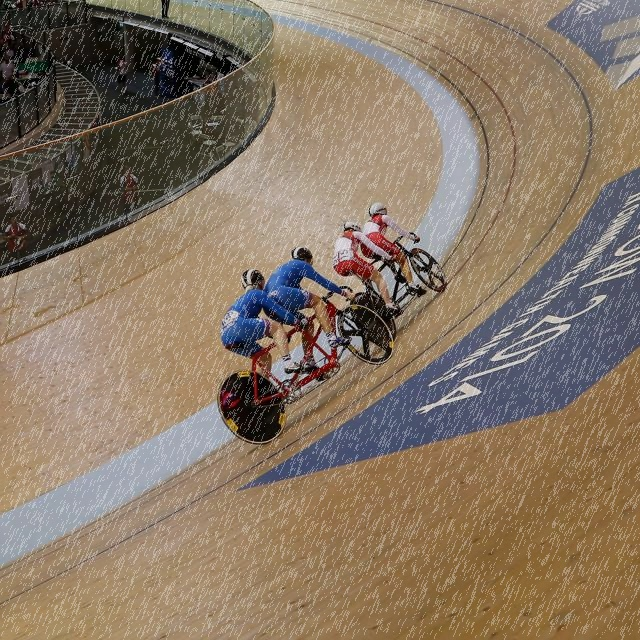pessoa: (260, 245, 356, 382), (220, 268, 312, 382), (330, 220, 405, 316), (358, 200, 427, 296), (0, 73, 41, 108), (1, 214, 29, 262), (202, 70, 224, 118), (118, 164, 139, 214), (0, 17, 16, 55), (150, 56, 162, 98), (0, 53, 18, 80), (116, 56, 128, 96), (6, 0, 54, 10), (161, 0, 171, 20), (60, 55, 73, 70)
